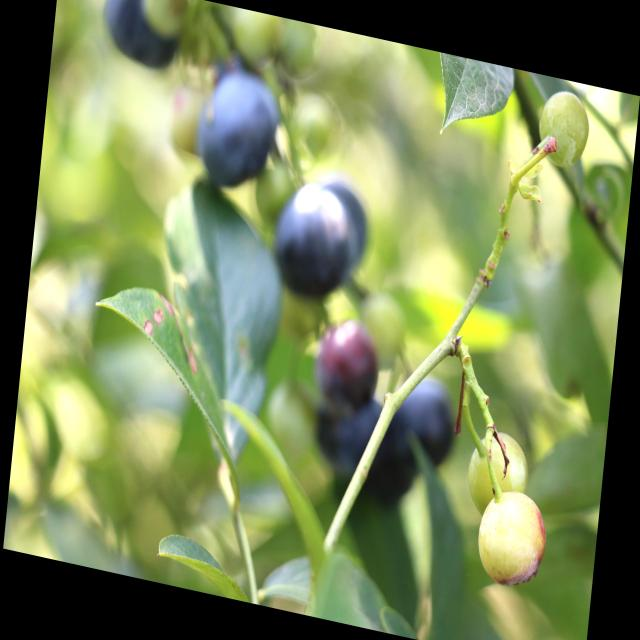blueberry: (268, 174, 360, 310), (193, 59, 283, 193), (334, 399, 414, 501), (312, 315, 378, 409), (394, 375, 461, 466)
blueberry-unripe: (471, 478, 552, 594), (462, 419, 535, 525)
